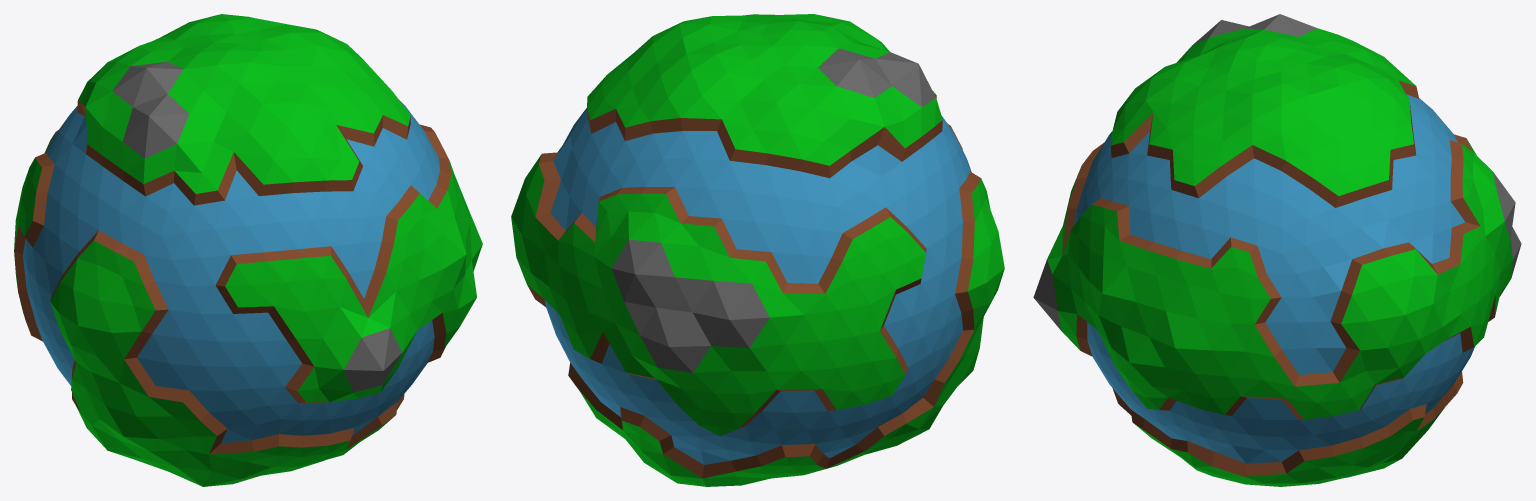
Rendered from DunyaGezegen.fbx.
3 views of the same model, side by side, from view 1: azimuth 30°, elevation 25°; view 2: azimuth 150°, elevation 25°; view 3: azimuth 270°, elevation 25° (orthographic). The views are drawn at different scales.
Parts seen in each view (by area): view 1: Planet; view 2: Planet; view 3: Planet.
Part boxes in pixels (x1,y1,x2,y2): Planet: (14, 14, 482, 486); Planet: (511, 14, 1004, 486); Planet: (1033, 14, 1521, 486).
Size of the model in its own units: 210 by 212 by 229.
